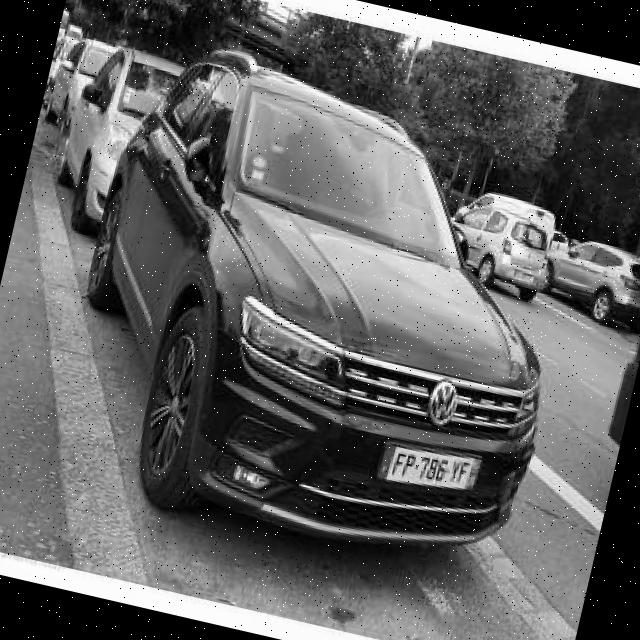EU: (372, 437, 488, 499)
France: (369, 440, 404, 484)
